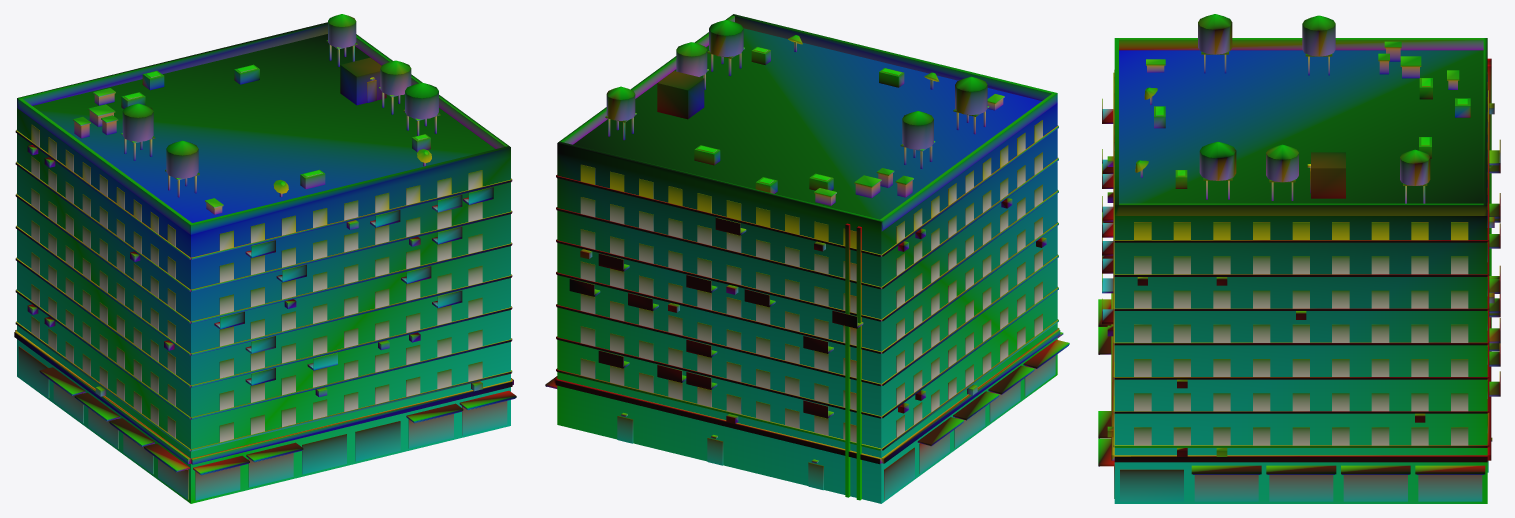
The model's file is Block_Corner_V8.fbx.
The picture shows the model from 3 angles, left to right: view 1: azimuth 30°, elevation 25°; view 2: azimuth 150°, elevation 25°; view 3: azimuth 270°, elevation 25°; orthographic projection. The views are drawn at different scales.
Parts seen in each view (by area): view 1: Block_Corner_V8_LOD0; view 2: Block_Corner_V8_LOD0; view 3: Block_Corner_V8_LOD0.
Boxes of the visible parts, x1=… form: Block_Corner_V8_LOD0: x1=14, y1=14, x2=516, y2=503; Block_Corner_V8_LOD0: x1=545, y1=14, x2=1069, y2=503; Block_Corner_V8_LOD0: x1=1098, y1=14, x2=1500, y2=503.
Size of what is drawn, in the model's own units: 36.8 by 32.44 by 34.5.
